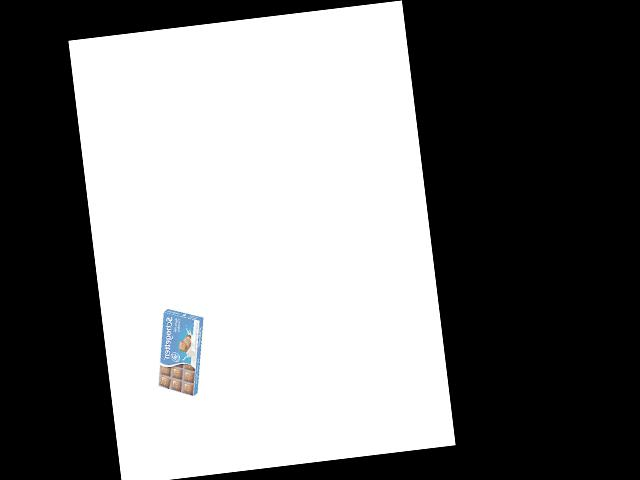chocolate: (149, 304, 205, 401)
